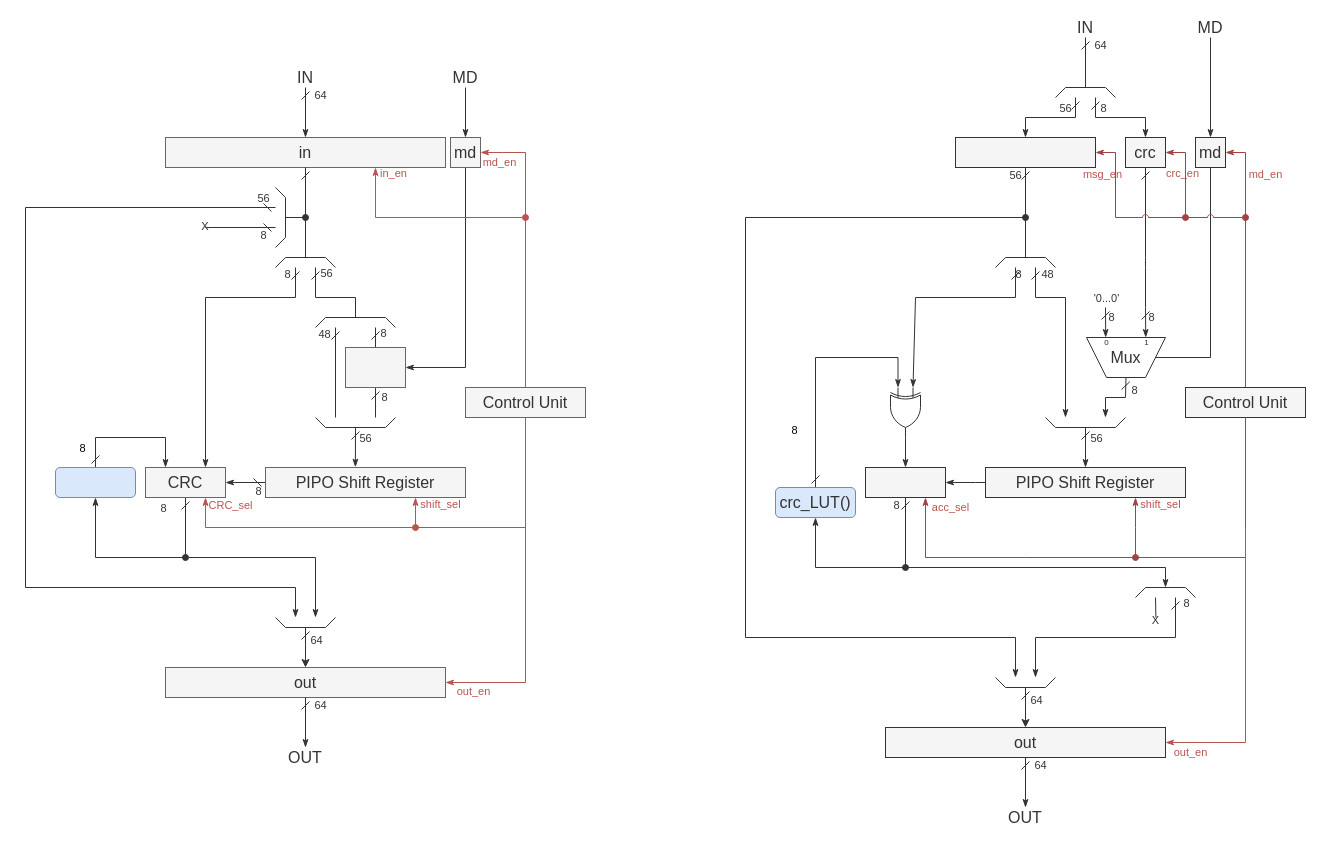
Image size: 1323x844. Some labels were removed from this diagram. Here are the shapes that lost their labels. From the top down, the centre of each, then its label:
At [1025,152]: "msg".
At [375,367]: "LSB filter".
At [95,482]: "XOR_lut()".
At [905,482]: "accum.".
